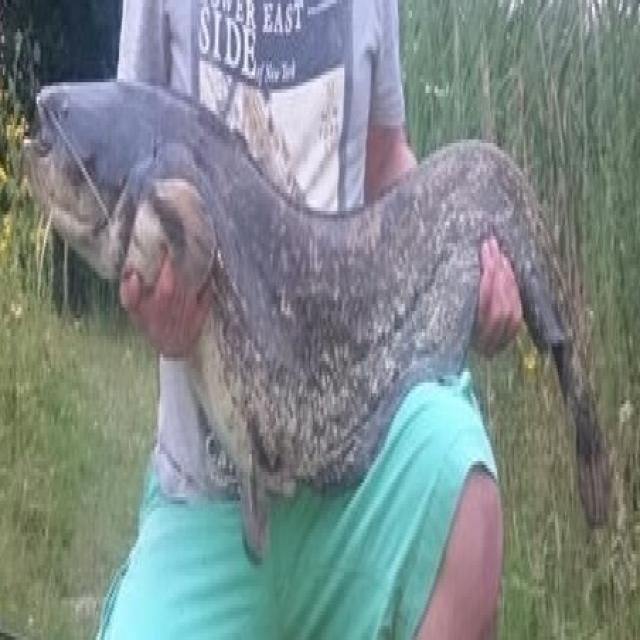Catfish: (23, 43, 629, 585)
